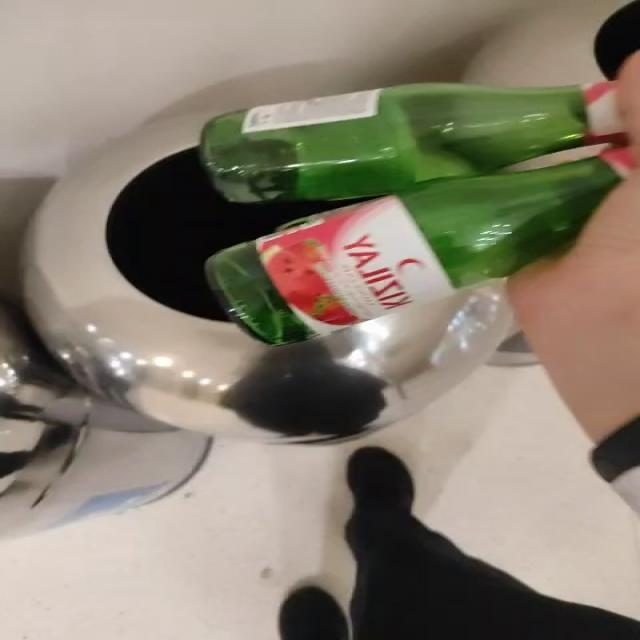Glass: (200, 82, 629, 344)
